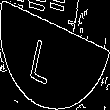L_N: (40, 26, 70, 84)
